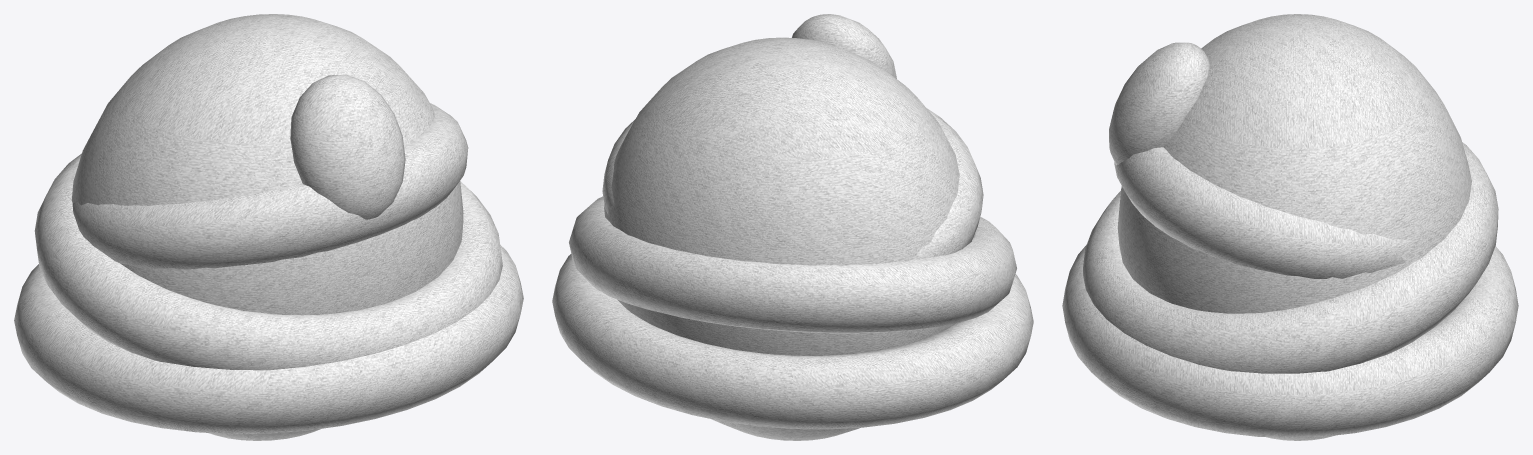
File: turban2.fbx
The picture shows the model from 3 angles, left to right: view 1: azimuth 30°, elevation 25°; view 2: azimuth 150°, elevation 25°; view 3: azimuth 270°, elevation 25°; orthographic projection. The views are drawn at different scales.
Parts seen in each view (by area): view 1: turban2; view 2: turban2; view 3: turban2.
Boxes of the visible parts, left/top/right/bottom form: turban2: left=14, top=14, right=523, bottom=440; turban2: left=552, top=14, right=1033, bottom=440; turban2: left=1062, top=14, right=1518, bottom=440.
Size of the model in its own units: 0.72 by 0.6 by 0.6336.
1 material, 1 textured.
